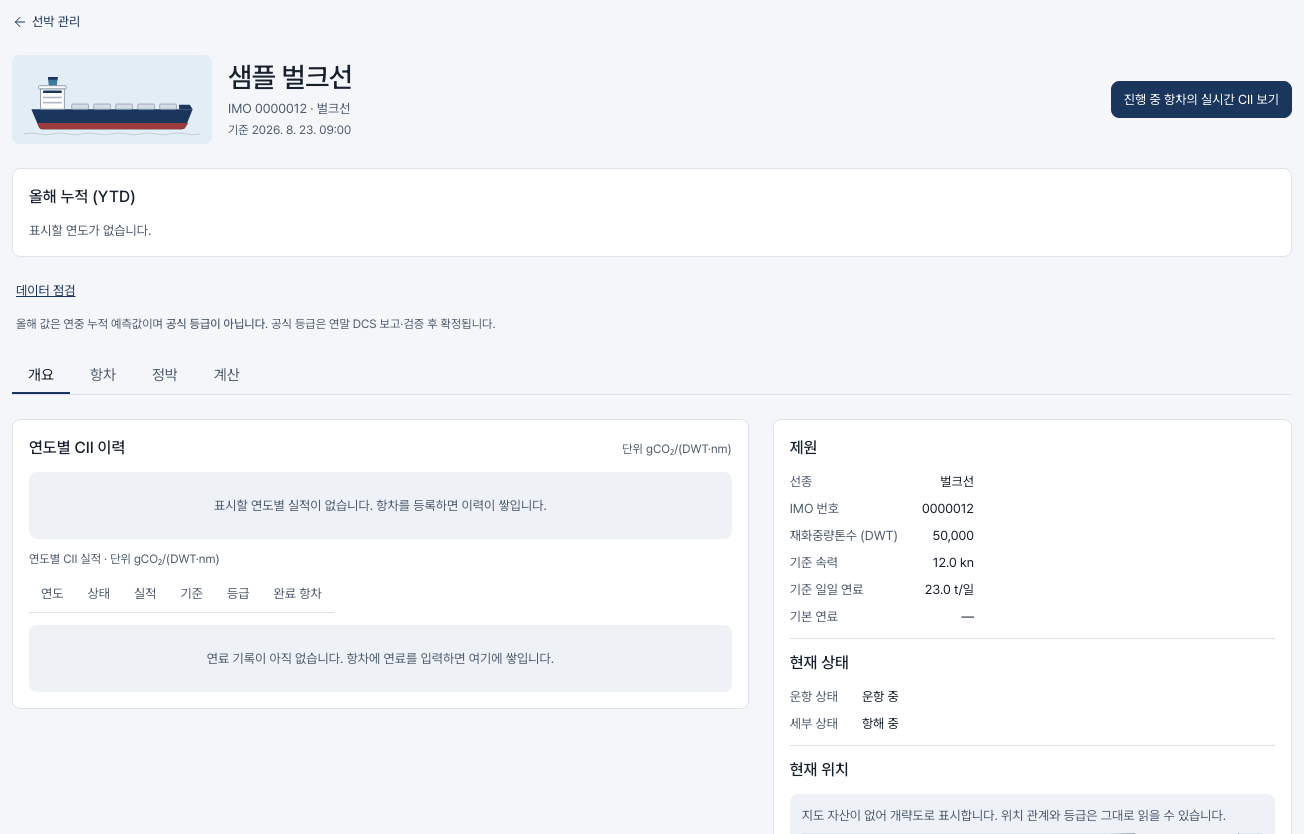
Test case: 실시간 CII 입구 (#588 · #1415) › 누르면 말풍선으로 왜 못 여는지와 어디서 여는지를 낸다
Check: the text "진행 중 항차가 없습니다" is not shown
Click the button "진행 중 항차의 실시간 CII 보기".
click(1201, 100)  # box top-left (1111, 81), bottom-right (1292, 118)
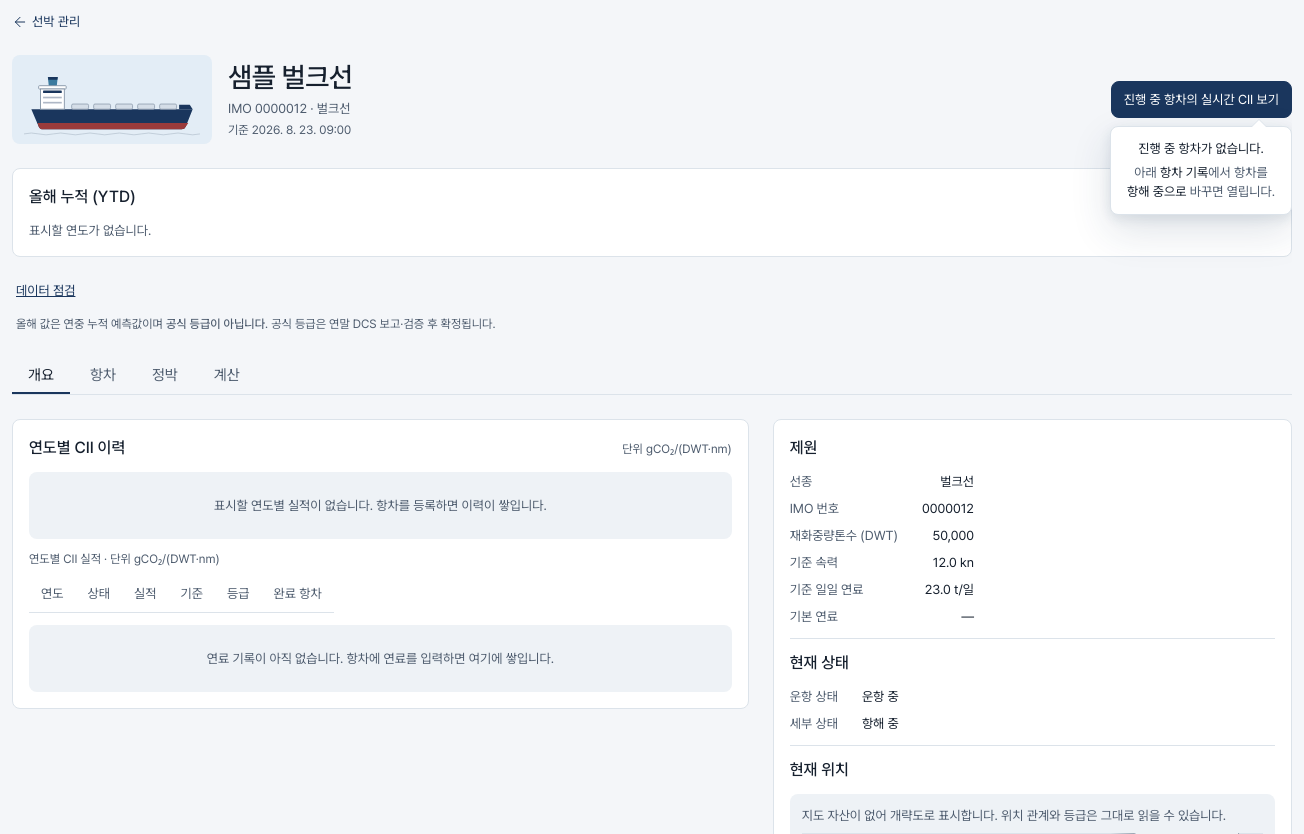
Check: the message shows "진행 중 항차가 없습니다", box top-left (1138, 141), bottom-right (1264, 156)
Check: the message shows "항차 기록", box top-left (1160, 165), bottom-right (1208, 180)
